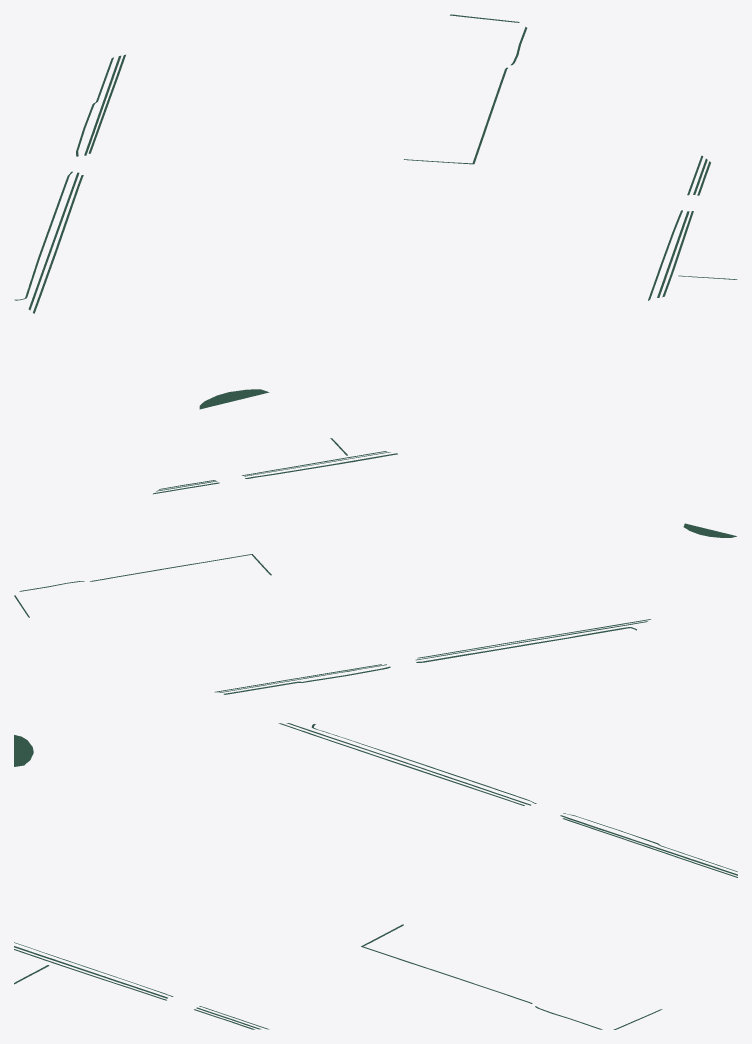
File: Water.glb
The picture shows the model from 3 angles, top to bottom: view 1: azimuth 30°, elevation 25°; view 2: azimuth 150°, elevation 25°; view 3: azimuth 270°, elevation 25°; orthographic projection. The views are drawn at different scales.
Parts seen in each view (by area): view 1: Water; view 2: Water; view 3: Water.
Part boxes in pixels (<box>): Water: <box>14,14,737,409</box>; Water: <box>14,438,736,694</box>; Water: <box>14,723,737,1029</box>.
Bounding box in the file's own units: 2000 × 4.63 × 2000.
